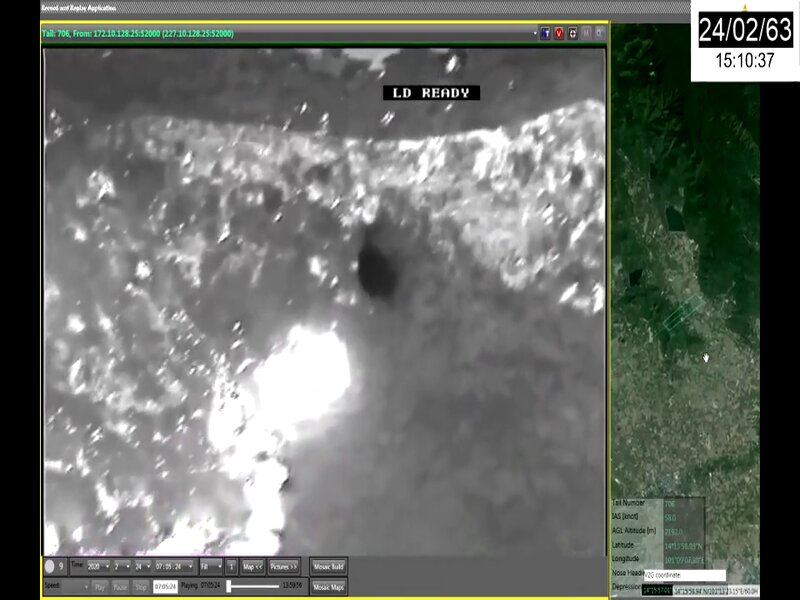Fire: (138, 324, 350, 555)
